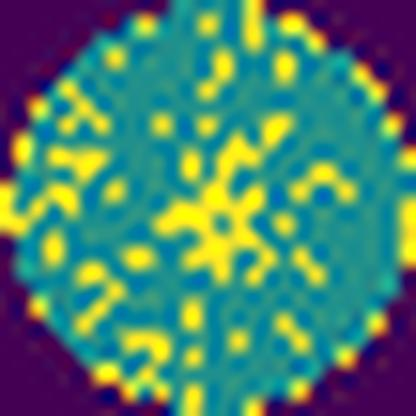Center: (150, 105, 296, 283)
